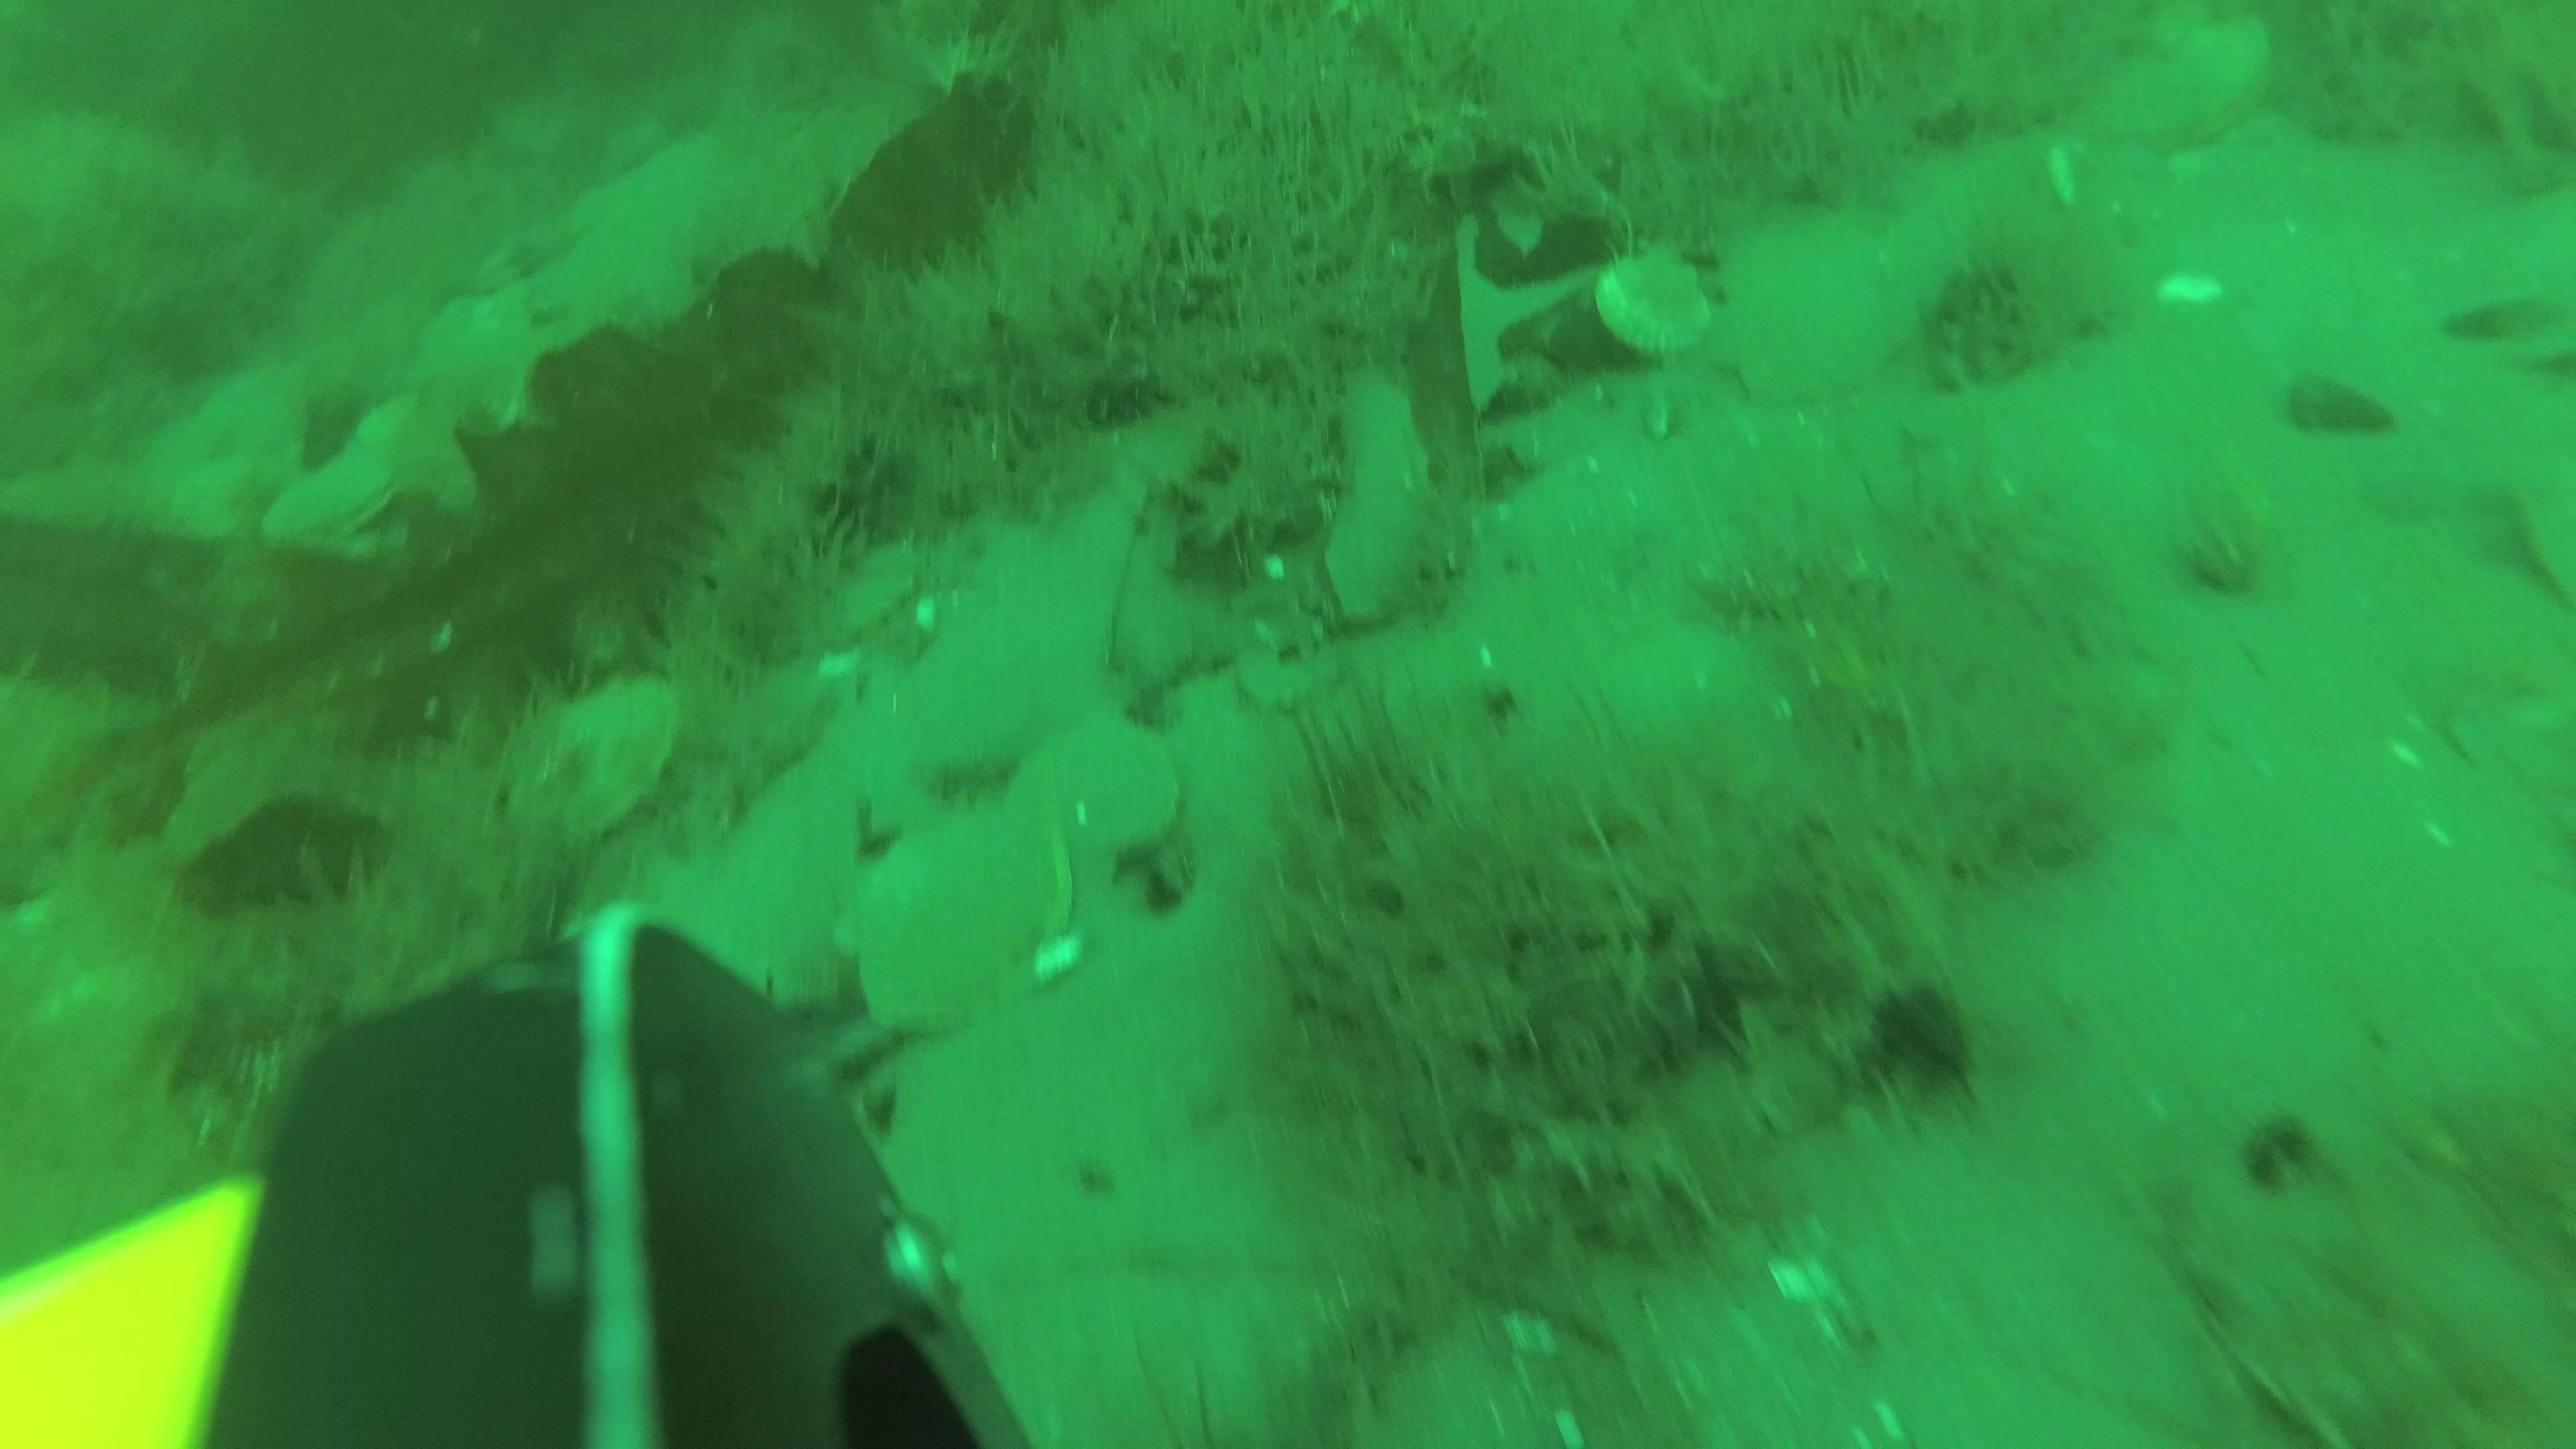scallop: (844, 810, 1077, 1030), (2051, 5, 2272, 140), (525, 671, 676, 846), (1016, 718, 1182, 867), (359, 396, 488, 506), (423, 295, 529, 414), (1599, 246, 1709, 347), (258, 455, 387, 540)
